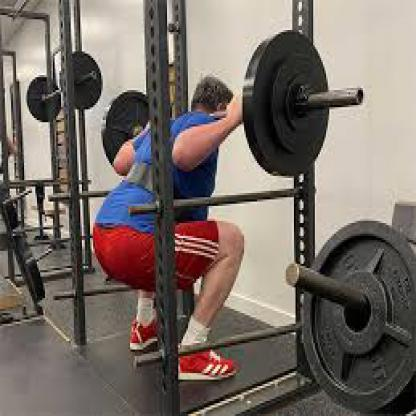Barbell: (242, 25, 335, 182)
